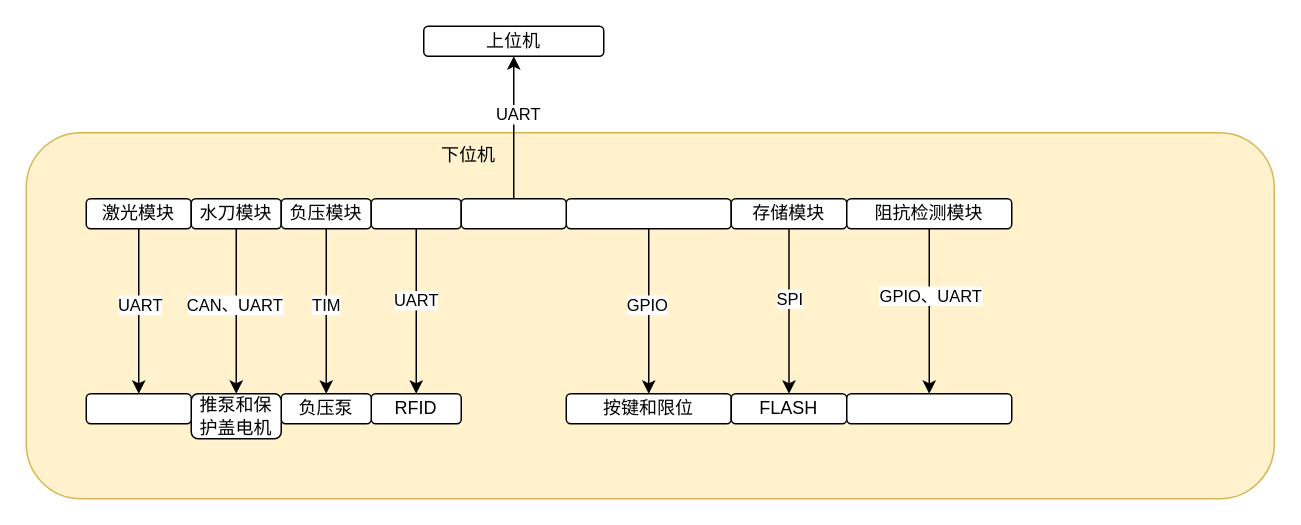
The diagram is 1301 pixels wide and 525 high, and some of its shapes have lost their labels. Each missing label, with the box of its shape:
RFID控制: (370, 197, 461, 229)
UI通信模块: (460, 197, 566, 229)
按键和限位模块: (565, 197, 731, 229)
激光器: (85, 392, 191, 424)
阻抗: (845, 392, 1012, 424)
